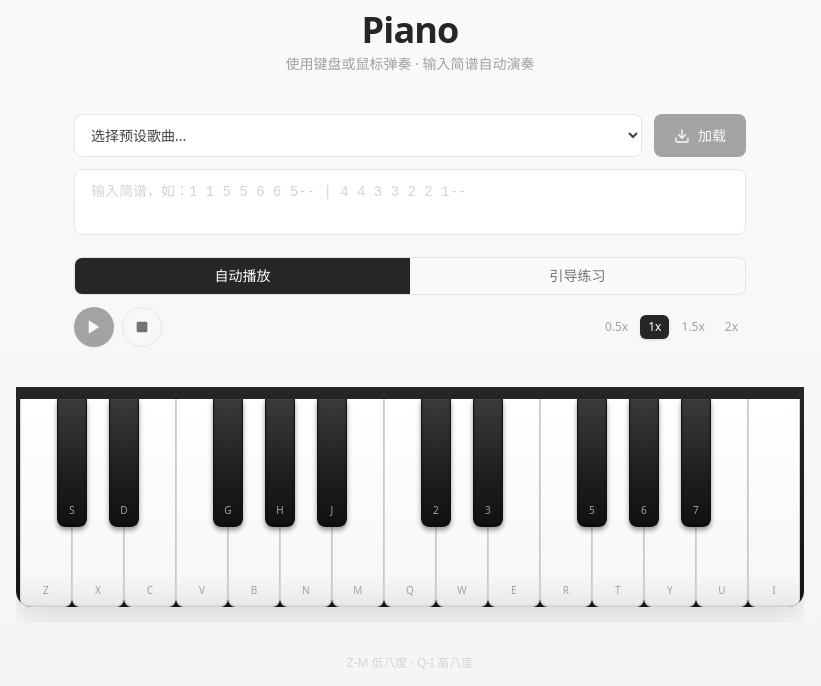
集成测试 › 选择预设歌曲 → 加载
Step 1. Select "小星星" in the dropdown → (358, 136), box [74,114,642,157]
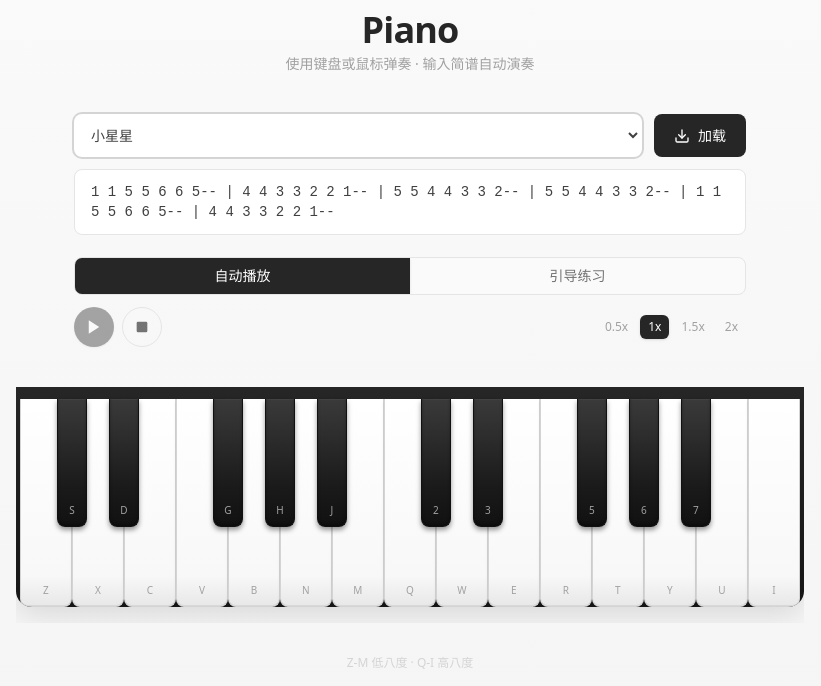
Step 2. Click the button "加载" → (700, 136), box [654,114,746,157]
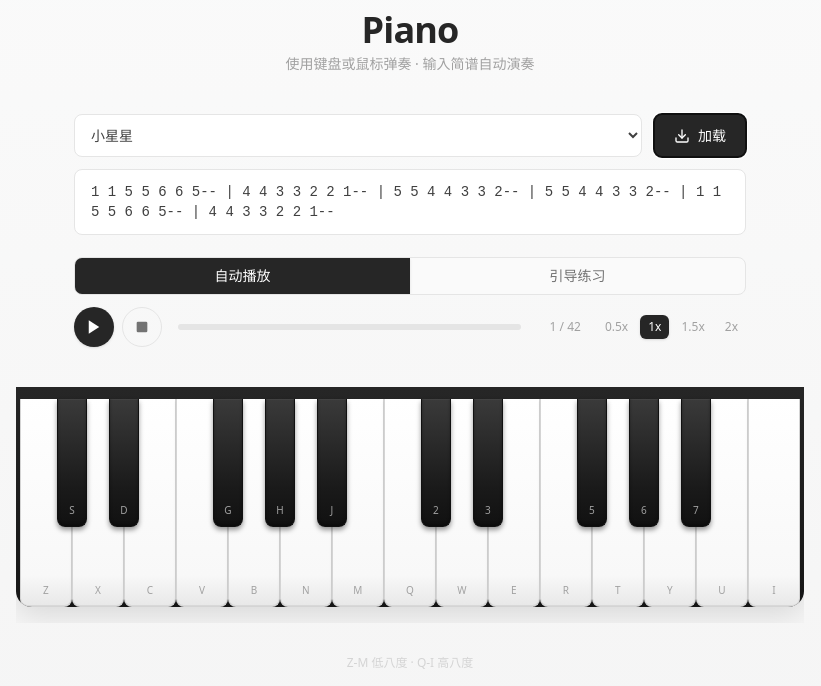
expect the button named "播放" is enabled: met, box [74,307,114,347]
